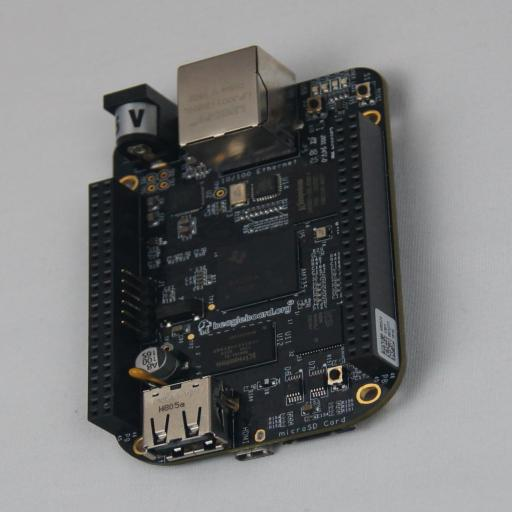Beaglebone Black: (88, 45, 416, 466)
